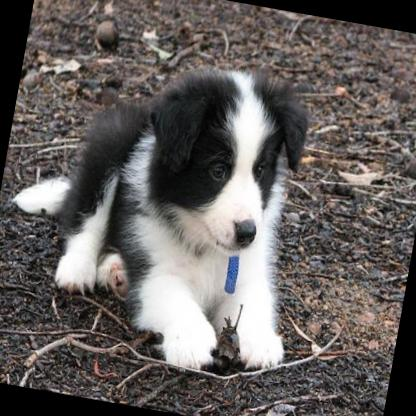collie: (0, 20, 338, 395)
